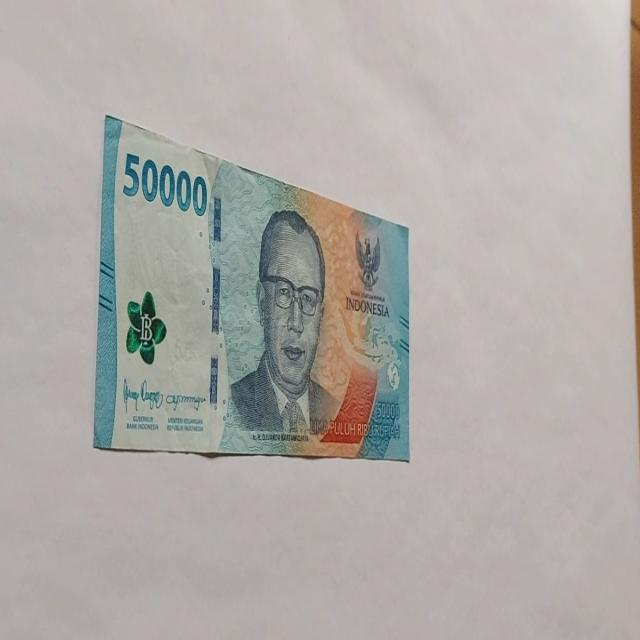lima puluh ribu rupiah: (92, 114, 410, 462), (220, 207, 340, 452), (121, 149, 208, 218)
